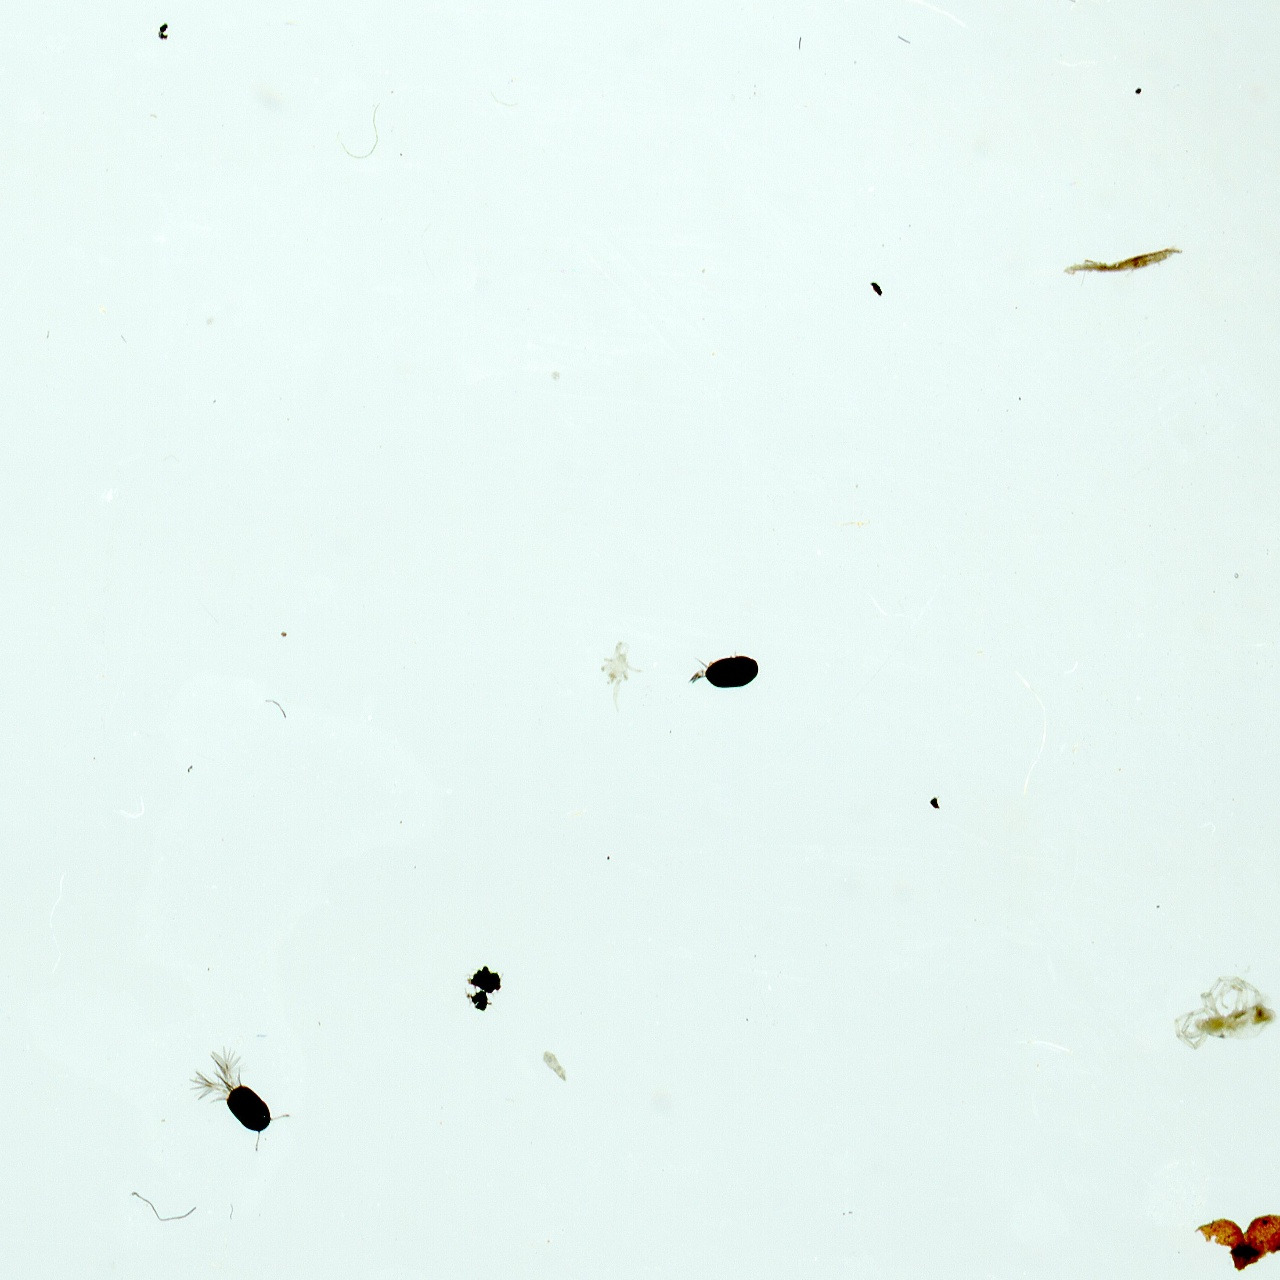arthropod: (178, 1035, 301, 1158), (1171, 972, 1280, 1053), (594, 636, 645, 720), (693, 648, 763, 690)
